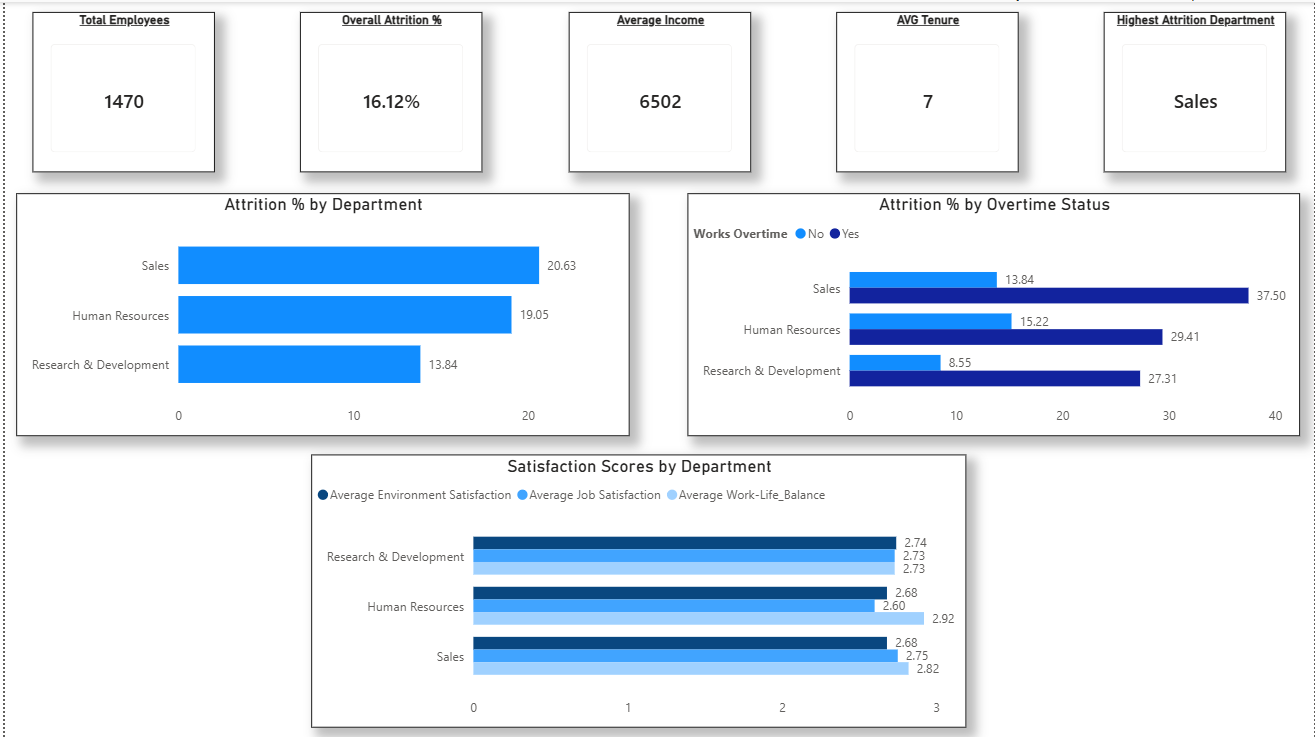

Layout of this report page (visuals, bound fields, positions):
{"tool":"powerbi","page":{"name":"Attrition Overview","canvas":[1280,720],"ordinal":0},"visuals":[{"type":"cardVisual","title":"Total Employees","fields":{"Data":["Min(Query6.Total Employees)"]},"box":[26.9,9.8,178.5,156.5],"z":0},{"type":"cardVisual","title":"Overall Attrition %","fields":{"Data":["Sum(Query6.Overall Attrition rate %)"]},"box":[289,9.6,178.4,156.4],"z":1},{"type":"cardVisual","title":"Highest Attrition Department","fields":{"Data":["Min(Query6.Highest Attrition Department)"]},"box":[1074.9,9.8,178.5,156.5],"z":2},{"type":"cardVisual","title":"AVG Tenure","fields":{"Data":["Sum(Query6.AVG Tenure)"]},"box":[812.9,9.6,178.4,156.4],"z":3},{"type":"cardVisual","title":"Average Income","fields":{"Data":["Min(Query6.Average Income)"]},"box":[551,9.6,178.4,156.4],"z":4},{"type":"clusteredBarChart","title":"Attrition % by Department","fields":{"Category":["Query1.Department"],"Y":["Sum(Query1.Attrition %)"]},"box":[11,186.6,599.7,237.4],"z":5},{"type":"clusteredBarChart","title":"Attrition % by Overtime Status","fields":{"Category":["Query3.Department"],"Y":["Sum(Query3.Attrition %)"],"Series":["Query3.Works Overtime"]},"box":[667.7,187.1,599.2,237.2],"z":6},{"type":"clusteredBarChart","title":"Satisfaction Scores by Department","fields":{"Category":["Query4.Department"],"Y":["Sum(Query4.Average Environment Satisfaction)","Sum(Query4.Average Job Satisfaction)","Sum(Query4.Average Work-Life_Balance)"]},"box":[299.1,443.2,640.8,267.6],"z":7}]}

Visuals, with their boxes in screenshot pixels (x1, y1, x2, y2), scaled from the page's 1280x720 canvas onto the 1315x737 screenshot:
"Total Employees" cardVisual: (left=28, top=10, right=211, bottom=170)
"Overall Attrition %" cardVisual: (left=297, top=10, right=480, bottom=170)
"Highest Attrition Department" cardVisual: (left=1104, top=10, right=1288, bottom=170)
"AVG Tenure" cardVisual: (left=835, top=10, right=1018, bottom=170)
"Average Income" cardVisual: (left=566, top=10, right=749, bottom=170)
"Attrition % by Department" clusteredBarChart: (left=11, top=191, right=627, bottom=434)
"Attrition % by Overtime Status" clusteredBarChart: (left=686, top=192, right=1302, bottom=434)
"Satisfaction Scores by Department" clusteredBarChart: (left=307, top=454, right=966, bottom=728)
